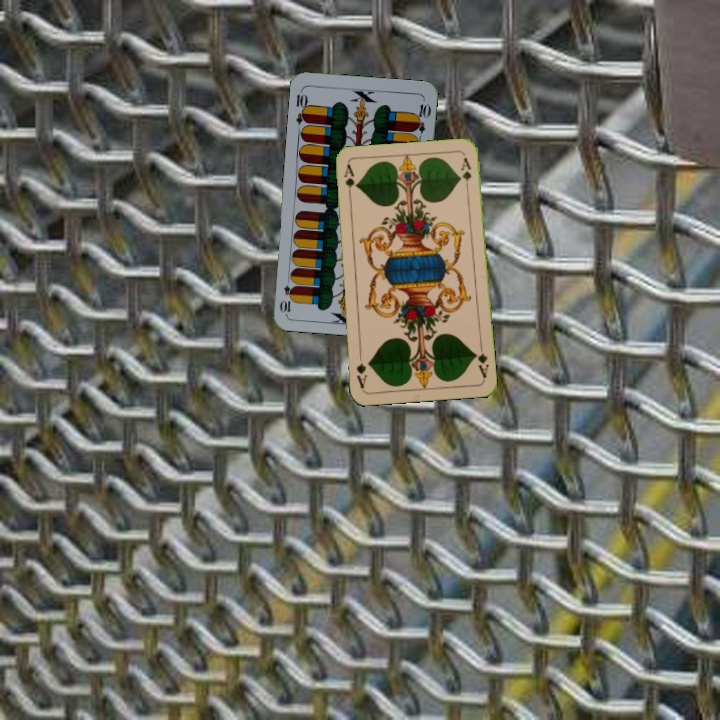E10: (292, 86, 311, 126)
GA: (471, 340, 491, 380), (340, 161, 357, 202)
